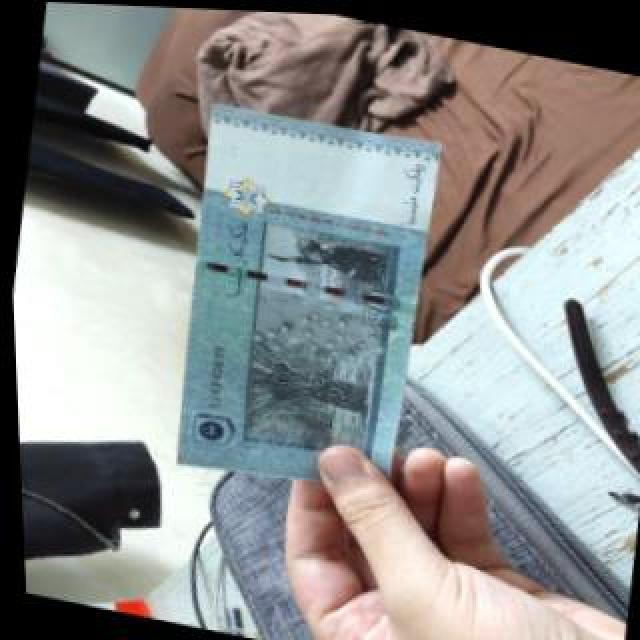50 Ringgit: (150, 84, 463, 514)
